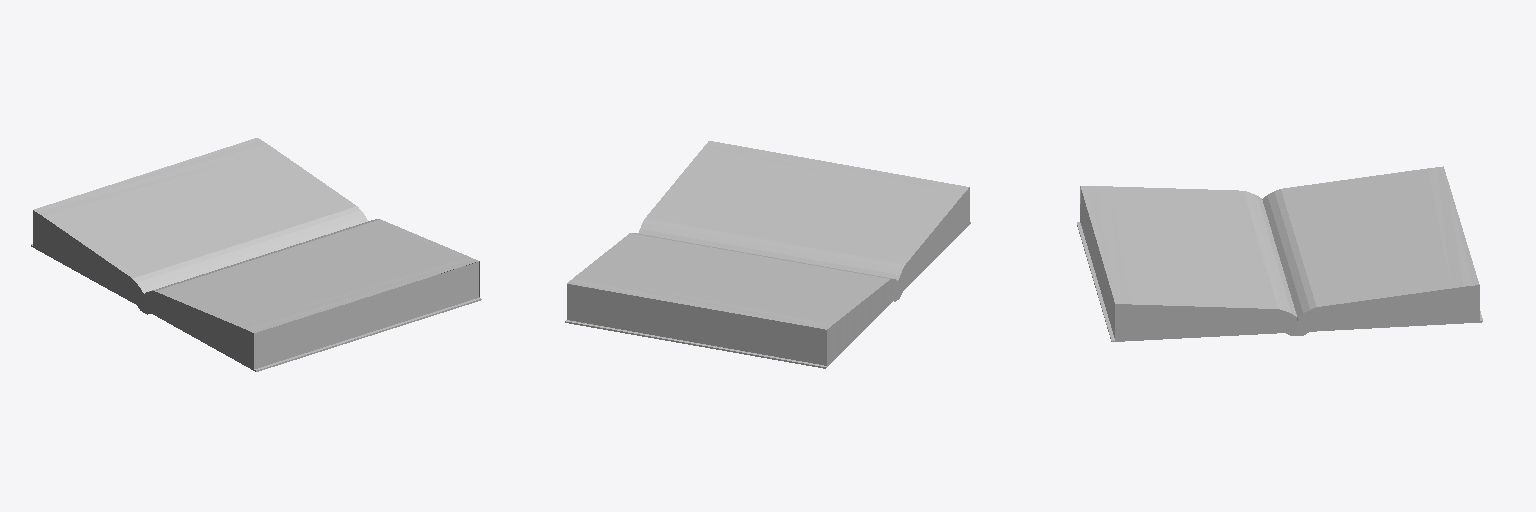
The model's file is book.obj.
The picture shows the model from 3 angles: view 1: azimuth 30°, elevation 25°; view 2: azimuth 150°, elevation 25°; view 3: azimuth 270°, elevation 25°; orthographic projection.
Visible parts, largest first — view 1: polySurface1 Mesh; view 2: polySurface1 Mesh; view 3: polySurface1 Mesh.
Part boxes in pixels (x1,y1,x2,y2): polySurface1 Mesh: (31, 138, 481, 371); polySurface1 Mesh: (565, 141, 970, 368); polySurface1 Mesh: (1077, 166, 1482, 341).
Size of the model in its own units: 1.86 by 0.2605 by 2.32.